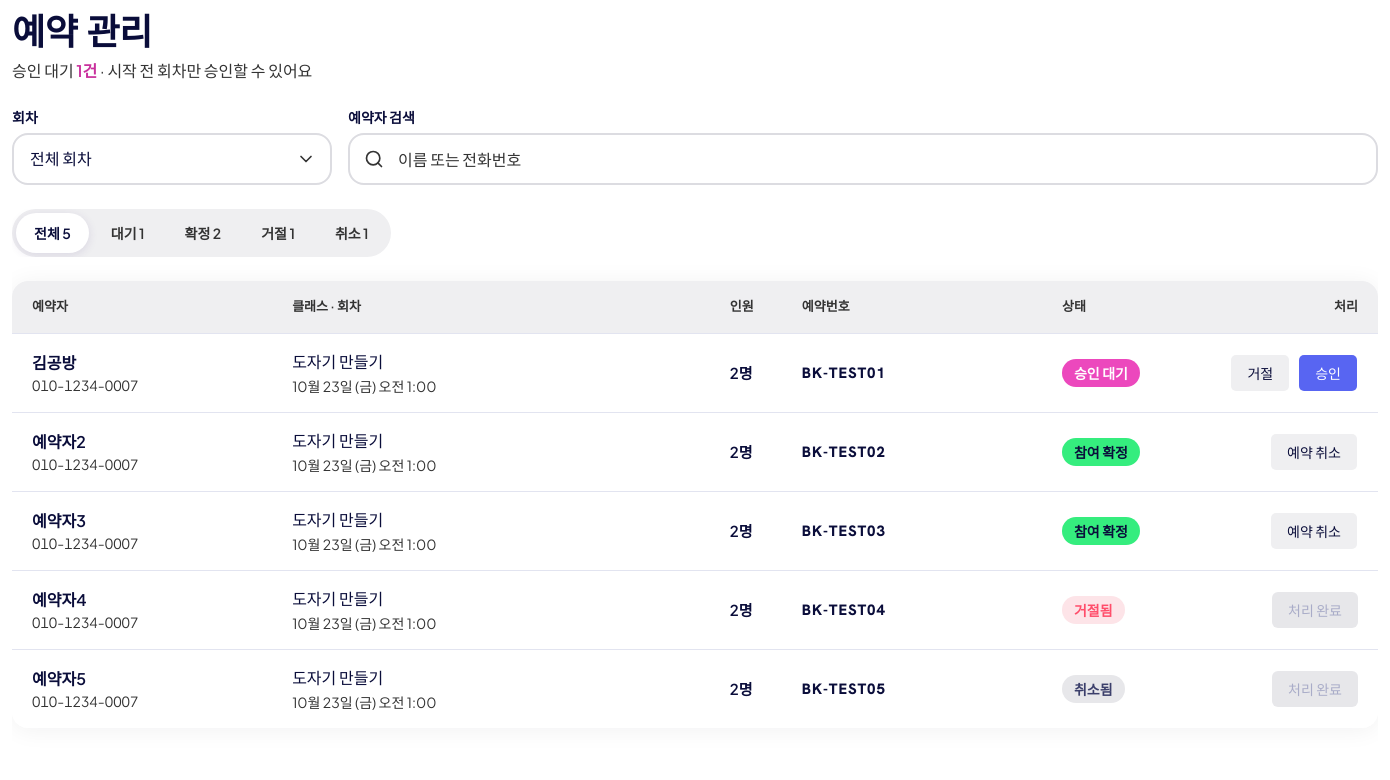
Test case: AdminBookingList 조회 › R-20: 상태 탭은 회차·검색 결과 기준 건수를 보여주고 서버 재요청 없이 목록을 거른다
Expected: the text "김공방" is shown, [32, 352, 76, 373]
Click the tab "확정 2": (203, 233) [167, 213, 239, 253]
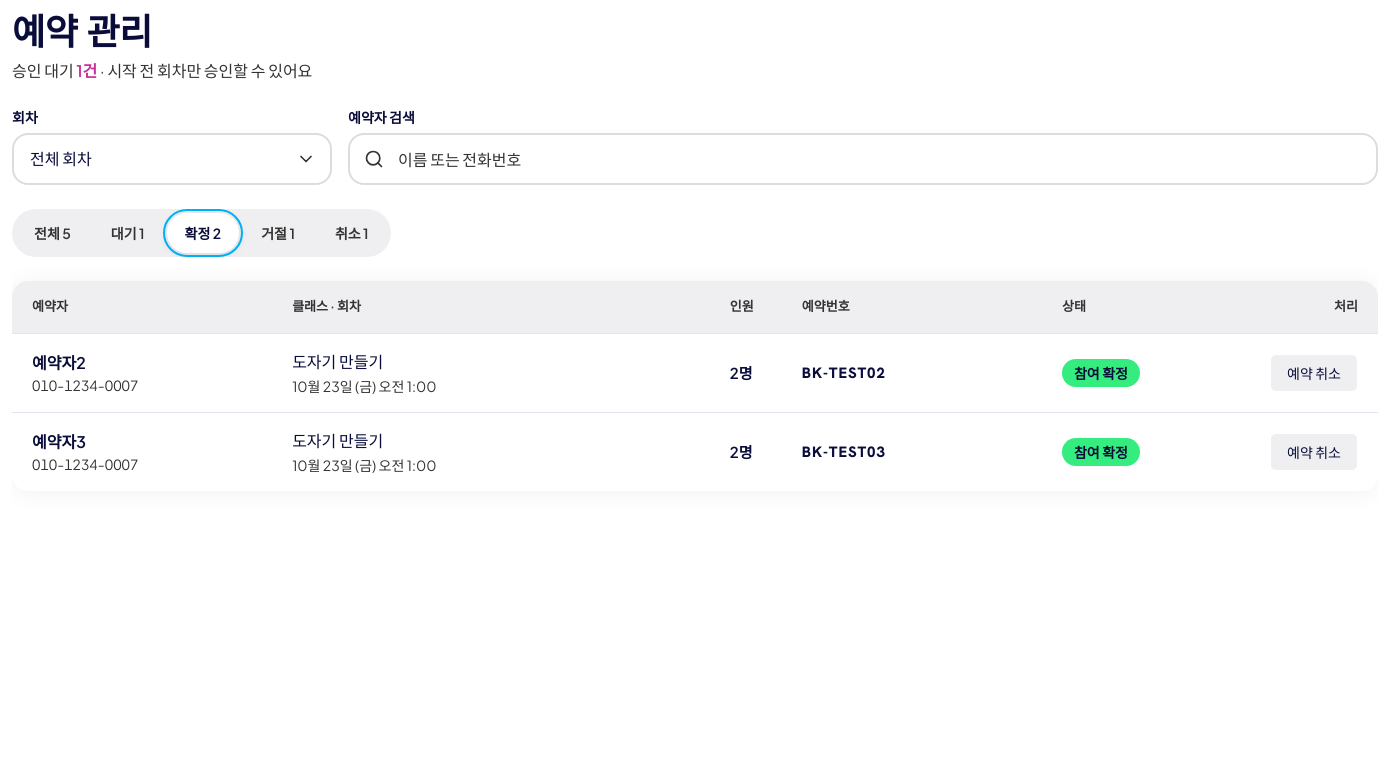
Result: the tab "확정 2" is selected at [167, 213, 239, 253]
Click the tab "거절 1": (278, 233) [243, 213, 313, 253]
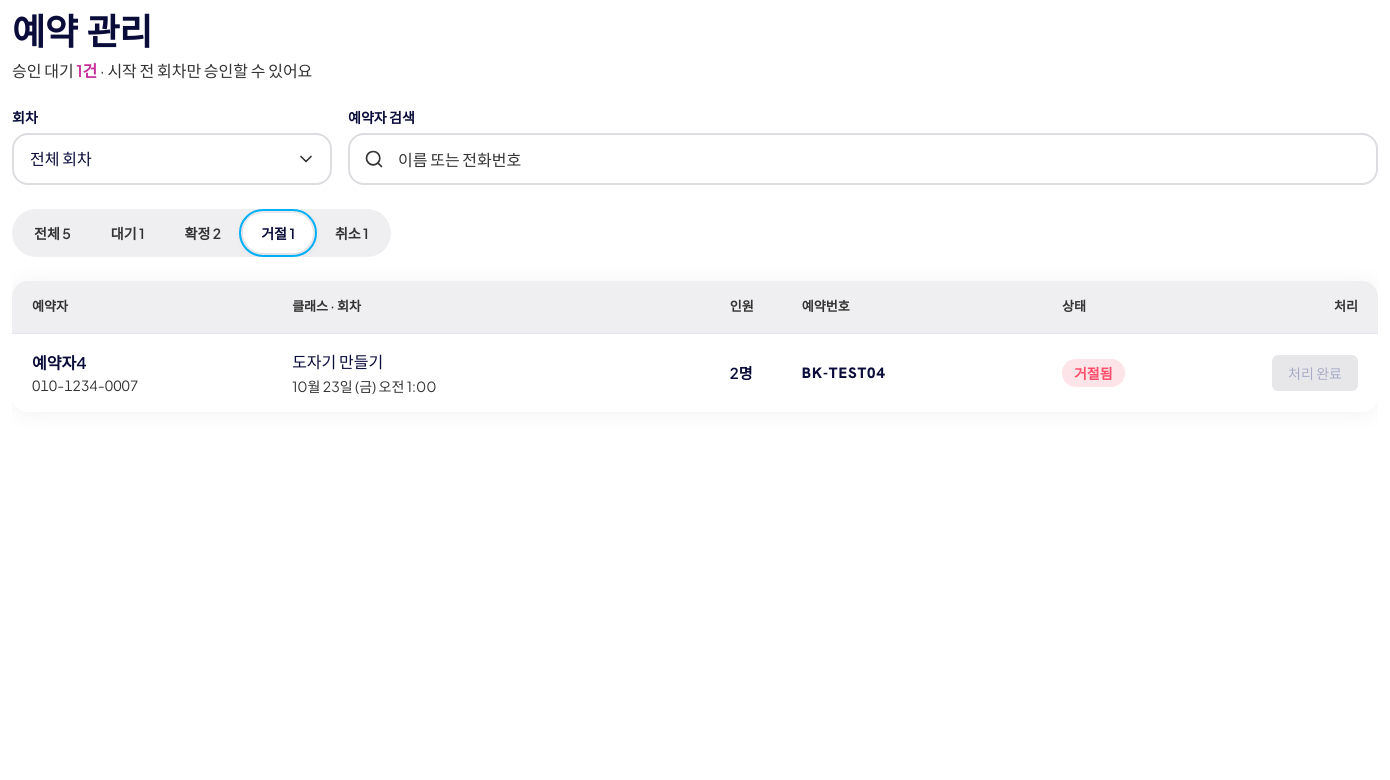
Expected: the text "김공방" is not shown
Result: the text "예약자4" is shown at [32, 352, 86, 373]
